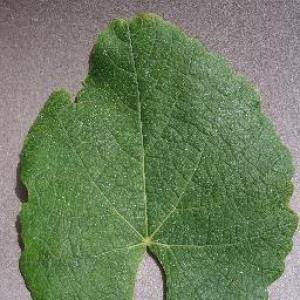Folha: (15, 10, 299, 299)
